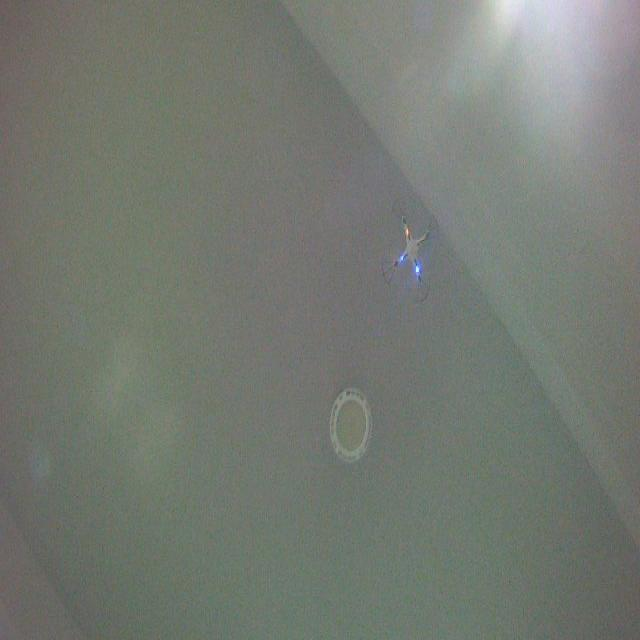drone: (379, 194, 442, 304)
